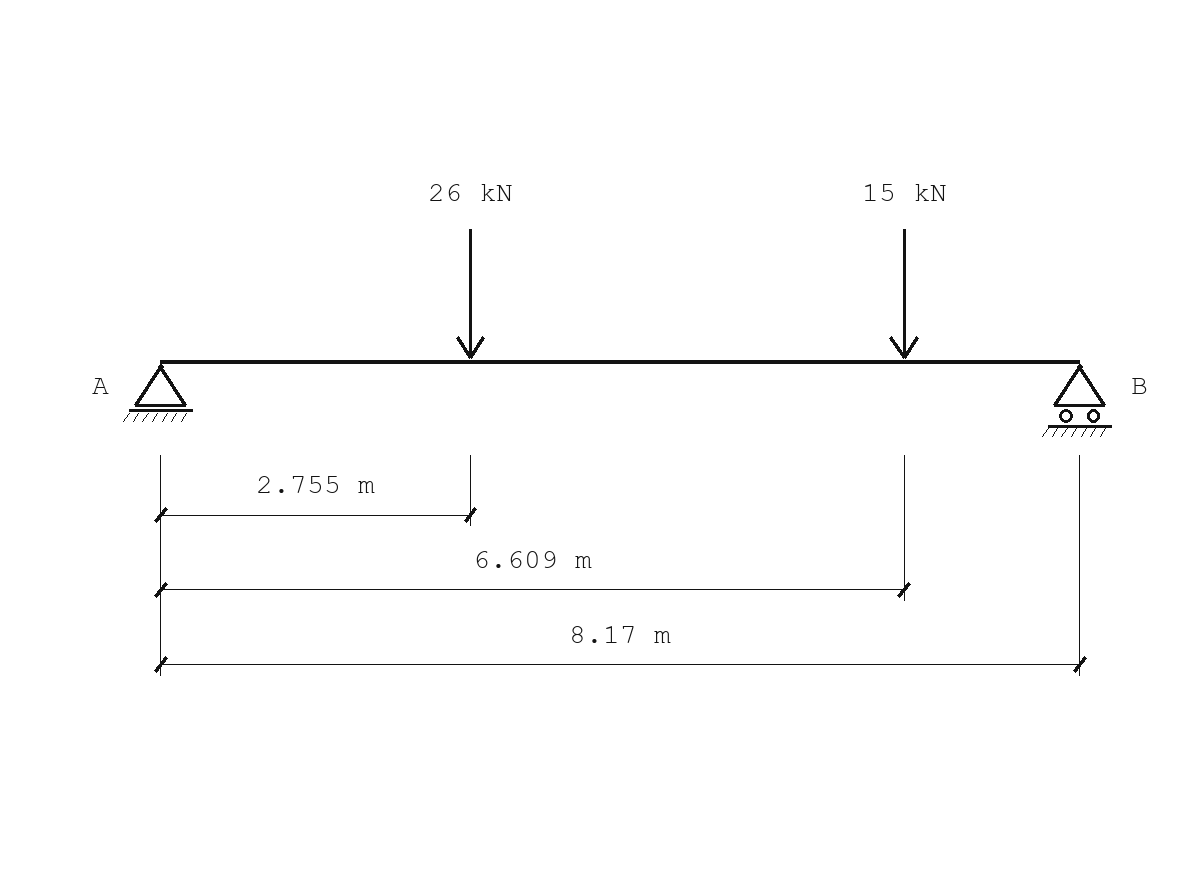pin_support: (123, 364, 193, 422)
point_load: (889, 229, 919, 359), (456, 229, 485, 359)
roller_support: (1042, 364, 1112, 437)
